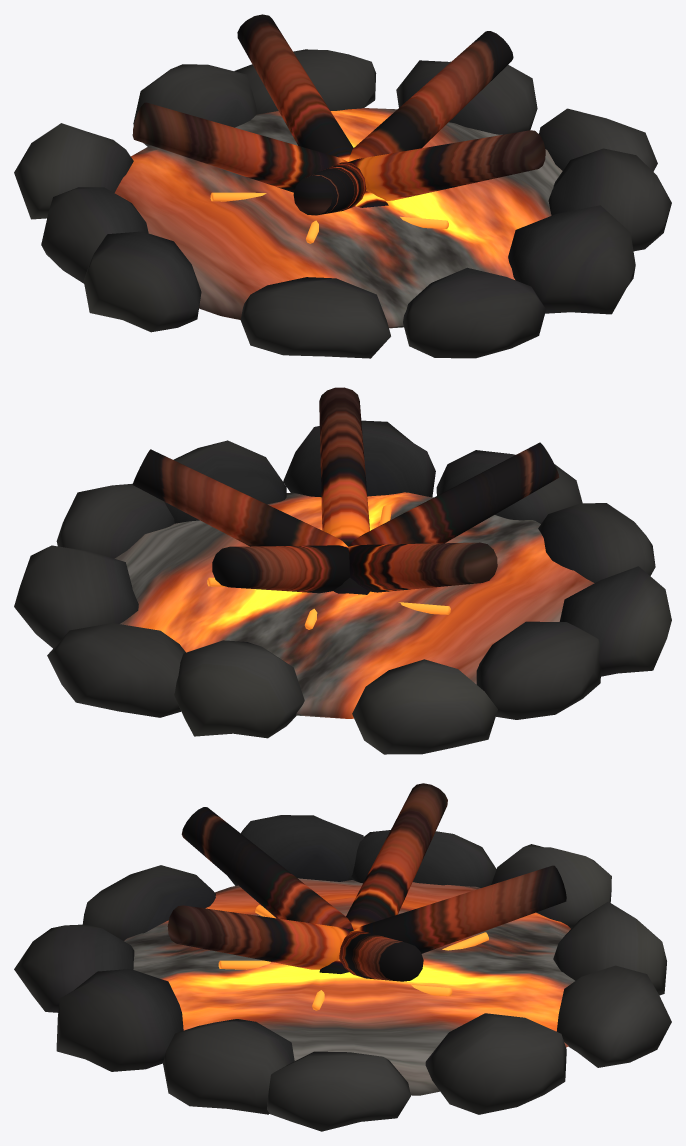
The model's file is campfire_lit.glb.
3 renders of one model, top to bottom at view 1: azimuth 30°, elevation 25°; view 2: azimuth 150°, elevation 25°; view 3: azimuth 270°, elevation 25°, orthographic. The views are drawn at different scales.
Parts seen in each view (by area): view 1: Campfire_Lit; view 2: Campfire_Lit; view 3: Campfire_Lit.
Boxes of the visible parts, x1,y1,x2,y2 form: Campfire_Lit: [14, 14, 671, 358]; Campfire_Lit: [14, 387, 671, 754]; Campfire_Lit: [14, 783, 671, 1131].
Size of what is drawn, in the model's own units: 1.12 by 0.264 by 1.16.
1 material, 1 textured.
